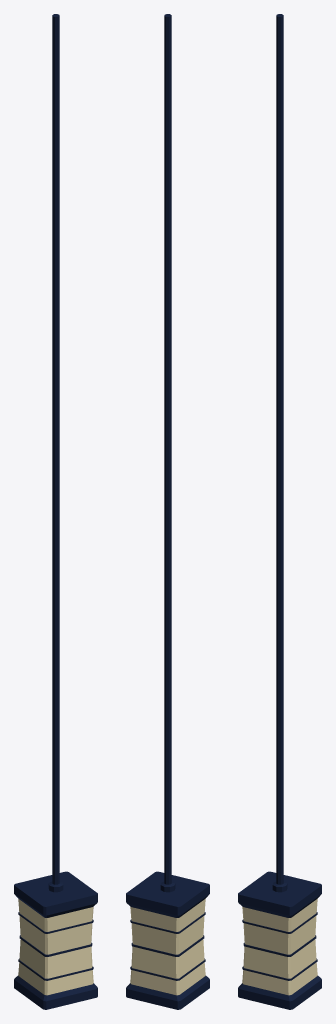
The model's file is BgMD_Lighting_equipment.fbx.
3 views of the same model, side by side, from view 1: azimuth 30°, elevation 25°; view 2: azimuth 150°, elevation 25°; view 3: azimuth 330°, elevation 25° (orthographic).
Visible parts, largest first — view 1: Bg_Lighting_equipment; view 2: Bg_Lighting_equipment; view 3: Bg_Lighting_equipment.
Part boxes in pixels (box(x1,y1,x2,y2)): Bg_Lighting_equipment: box(14, 14, 97, 1009); Bg_Lighting_equipment: box(126, 14, 209, 1009); Bg_Lighting_equipment: box(238, 14, 321, 1009).
Bounding box in the file's own units: 23.61 × 404 × 23.61.
Materials: 1 (1 with a texture image).
